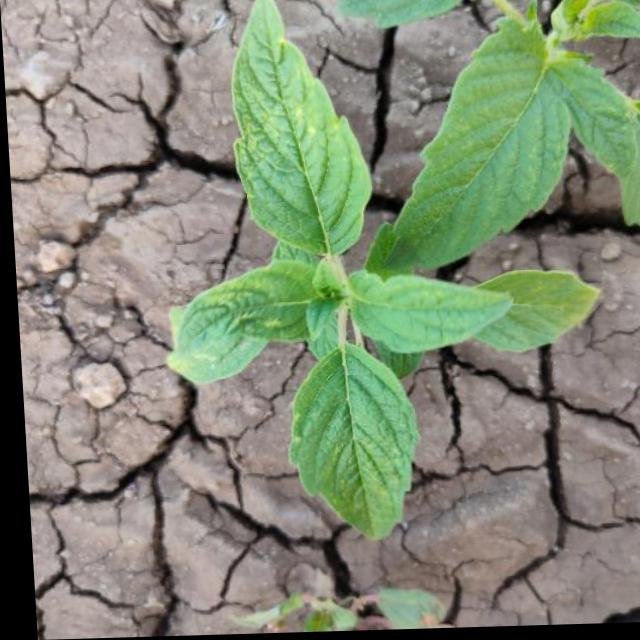crop: (136, 1, 621, 542), (316, 0, 640, 296)
